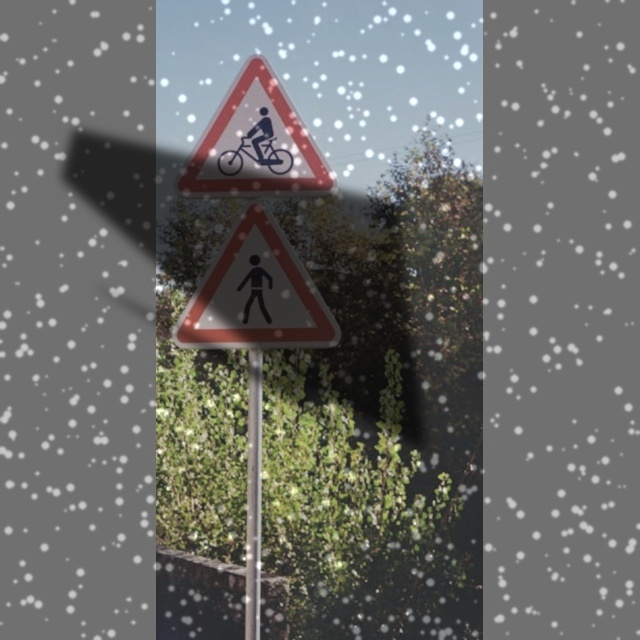Cycle_Crossing: (181, 52, 329, 198)
